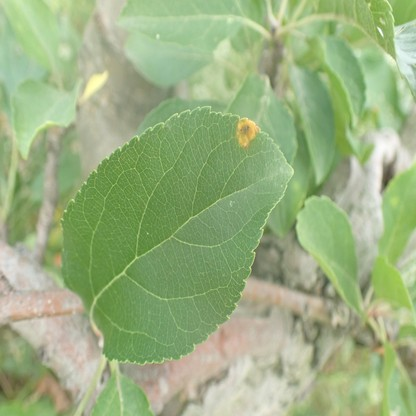rust: (236, 114, 258, 146)
